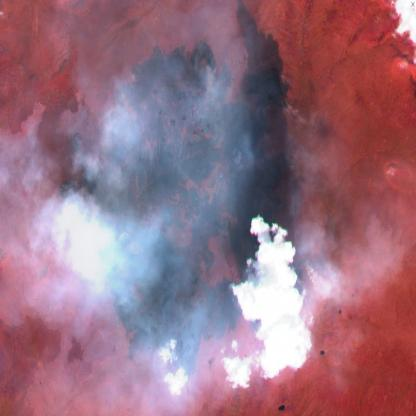fire: (54, 35, 316, 304)
